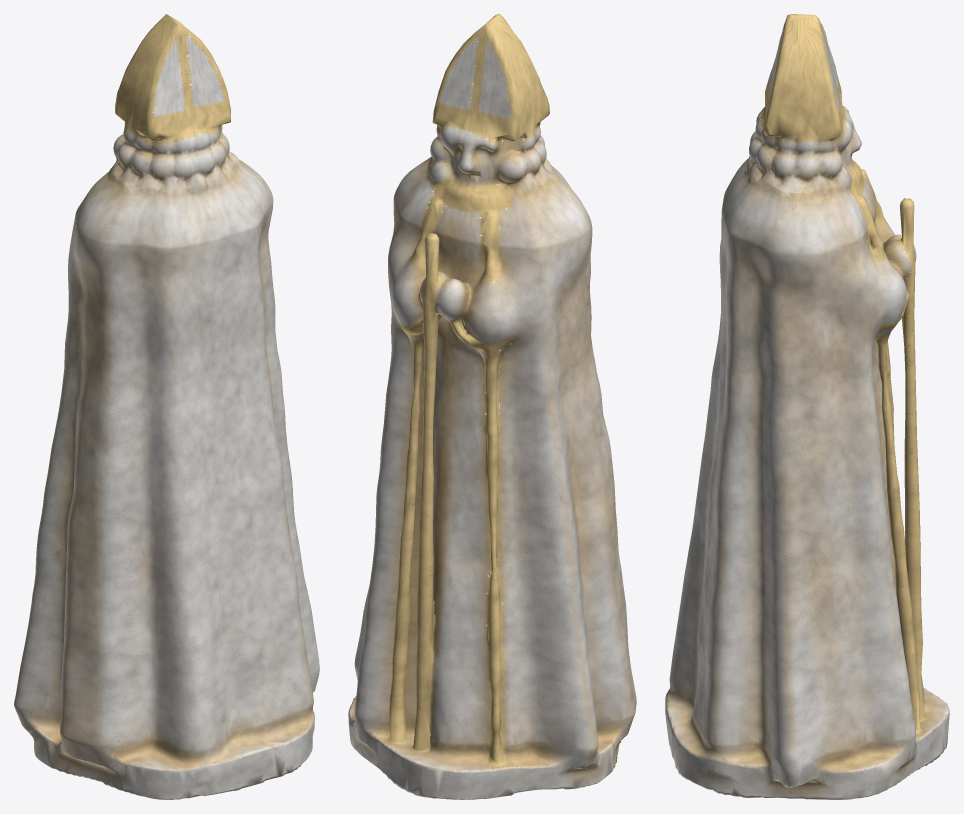
The model's file is bishop-white-hd.glb.
The picture shows the model from 3 angles, left to right: view 1: azimuth 30°, elevation 25°; view 2: azimuth 150°, elevation 25°; view 3: azimuth 270°, elevation 25°; orthographic projection.
Visible parts, largest first — view 1: Argent Reliquary – White Bishop; view 2: Argent Reliquary – White Bishop; view 3: Argent Reliquary – White Bishop.
Boxes of the visible parts, x1=… form: Argent Reliquary – White Bishop: x1=14, y1=14, x2=319, y2=799; Argent Reliquary – White Bishop: x1=348, y1=14, x2=636, y2=799; Argent Reliquary – White Bishop: x1=665, y1=14, x2=949, y2=799.
Bounding box in the file's own units: 0.5366 × 1.39 × 0.4891.
Materials: 2 (2 with a texture image).
